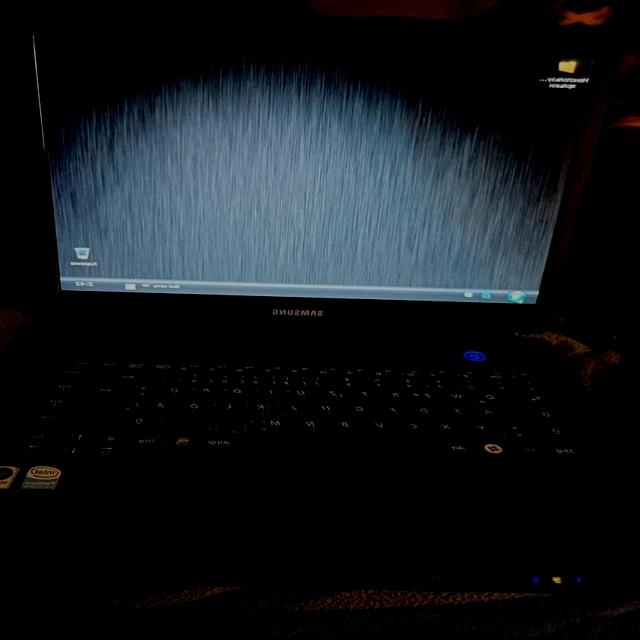0: (210, 372, 236, 384)
1: (486, 377, 514, 391)
2: (455, 378, 479, 390)
3: (426, 376, 453, 390)
4: (395, 375, 421, 390)
5: (364, 376, 390, 388)
6: (333, 374, 359, 388)
7: (301, 373, 327, 387)
8: (271, 372, 297, 386)
9: (240, 373, 267, 385)
a: (478, 405, 505, 420)
accent: (147, 372, 174, 384)
ae: (145, 398, 174, 414)
alt-left: (444, 437, 481, 457)
altgr-right: (207, 431, 240, 452)
b: (331, 417, 358, 433)
c: (401, 419, 428, 434)
caret: (515, 379, 546, 393)
comma: (227, 416, 254, 432)
d: (412, 403, 438, 419)
del: (84, 370, 143, 384)
e: (413, 390, 440, 402)
enter: (73, 376, 125, 412)
f: (378, 404, 404, 418)
g: (348, 402, 371, 417)
h: (312, 401, 338, 416)
hash: (114, 397, 143, 412)
i: (254, 386, 280, 398)
j: (279, 401, 305, 416)
k: (246, 400, 272, 415)
keyboard: (0, 354, 596, 468)
l: (212, 399, 241, 415)
less: (499, 422, 534, 440)
m: (260, 416, 287, 432)
minus: (157, 416, 188, 432)
n: (296, 416, 323, 432)
o: (224, 385, 250, 399)
oe: (177, 398, 208, 414)
p: (192, 385, 215, 397)
plus: (127, 383, 154, 399)
point: (192, 415, 222, 431)
q: (478, 391, 506, 405)
r: (383, 389, 409, 403)
s: (445, 404, 472, 420)
shift-left: (534, 423, 578, 440)
shift-lock: (509, 407, 564, 422)
shift-right: (60, 414, 150, 431)
space: (242, 433, 446, 455)
ss: (177, 373, 203, 385)
strg-left: (551, 441, 590, 461)
strg-right: (131, 431, 166, 451)
t: (352, 388, 377, 402)
tab: (510, 392, 554, 407)
u: (288, 387, 312, 399)
ue: (159, 384, 187, 398)
v: (365, 418, 394, 434)
w: (449, 390, 473, 404)
x: (433, 419, 463, 435)
y: (467, 421, 495, 437)
z: (321, 387, 345, 401)
